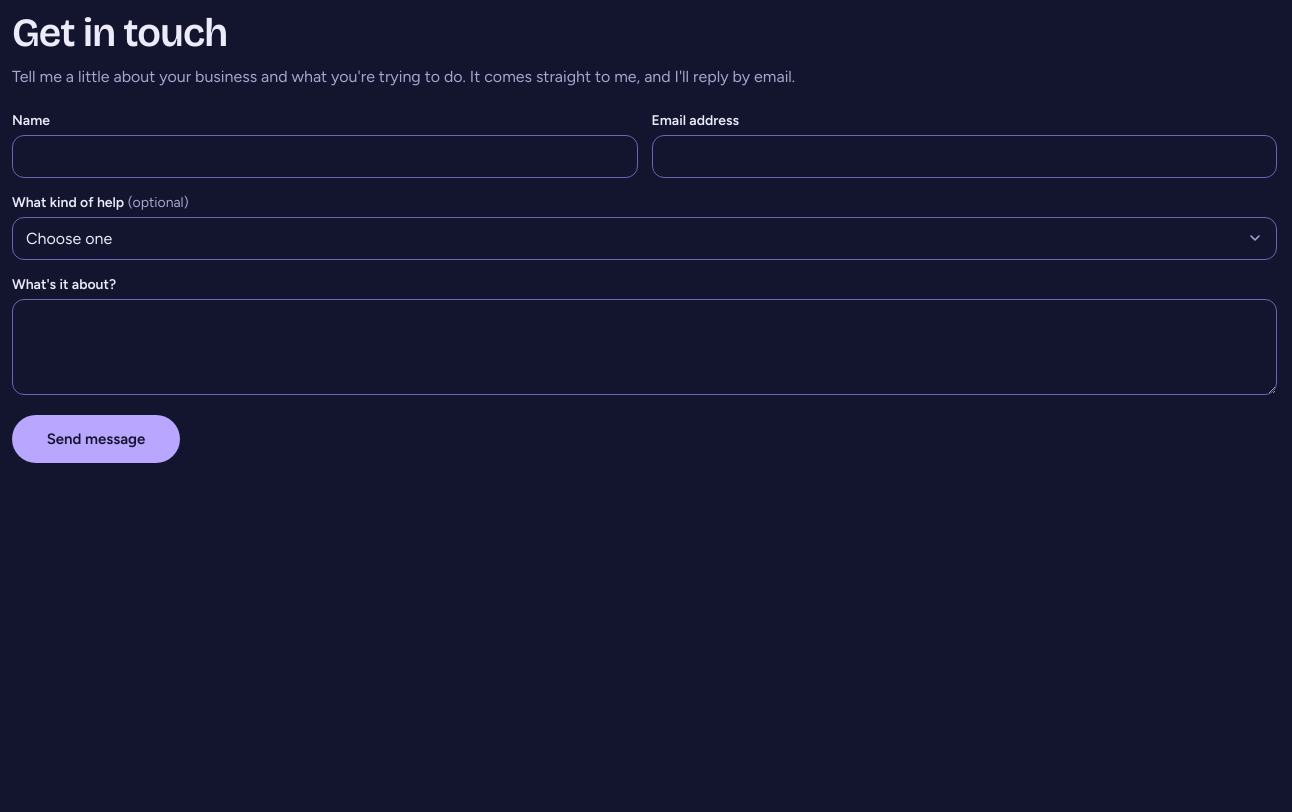
Test: EnquiryForm › says it didn't send when the API answers with an error, offers LinkedIn, and retries
The image size is (1292, 812).
Type "Ada Lovelace" into the field labelled "Name" at (325, 156), box [12, 135, 638, 178]
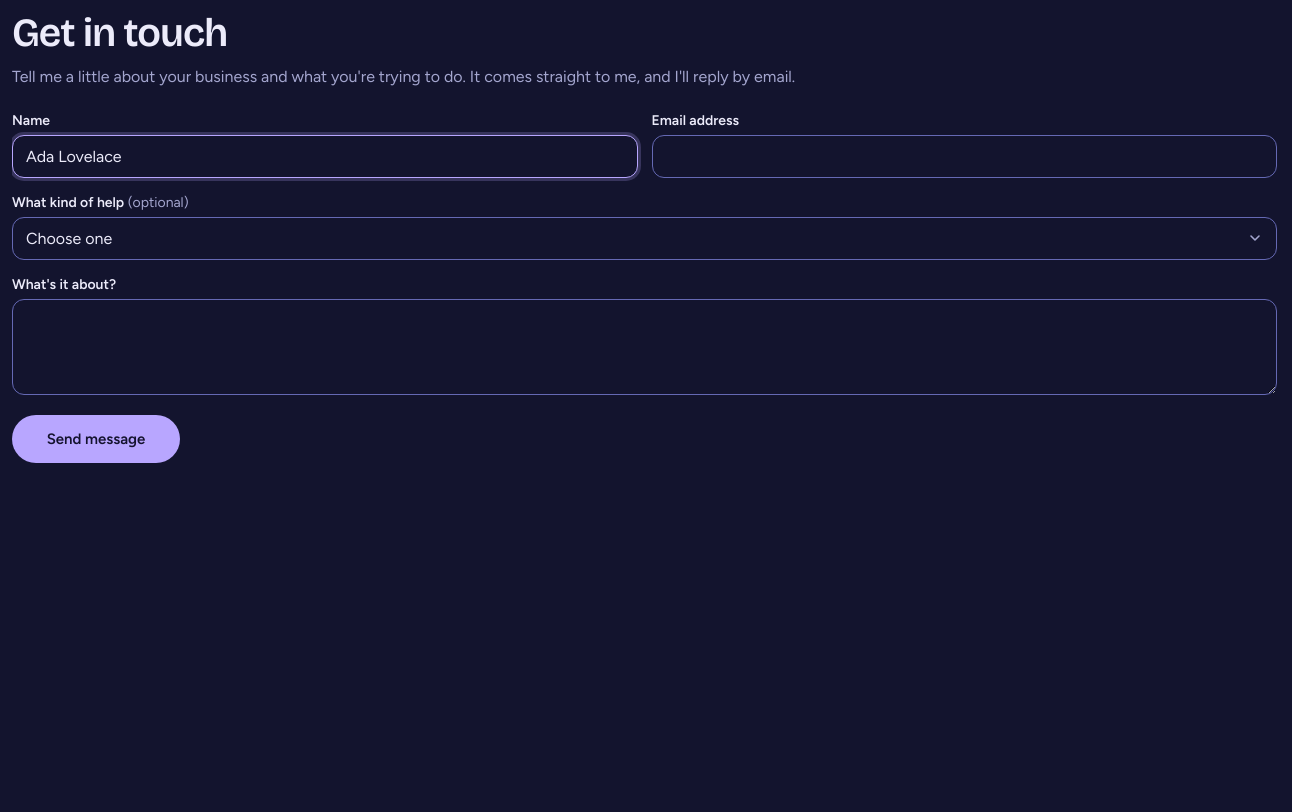
Type "ada@example.com" into the field labelled "Email address" at (964, 156), box [652, 135, 1277, 178]
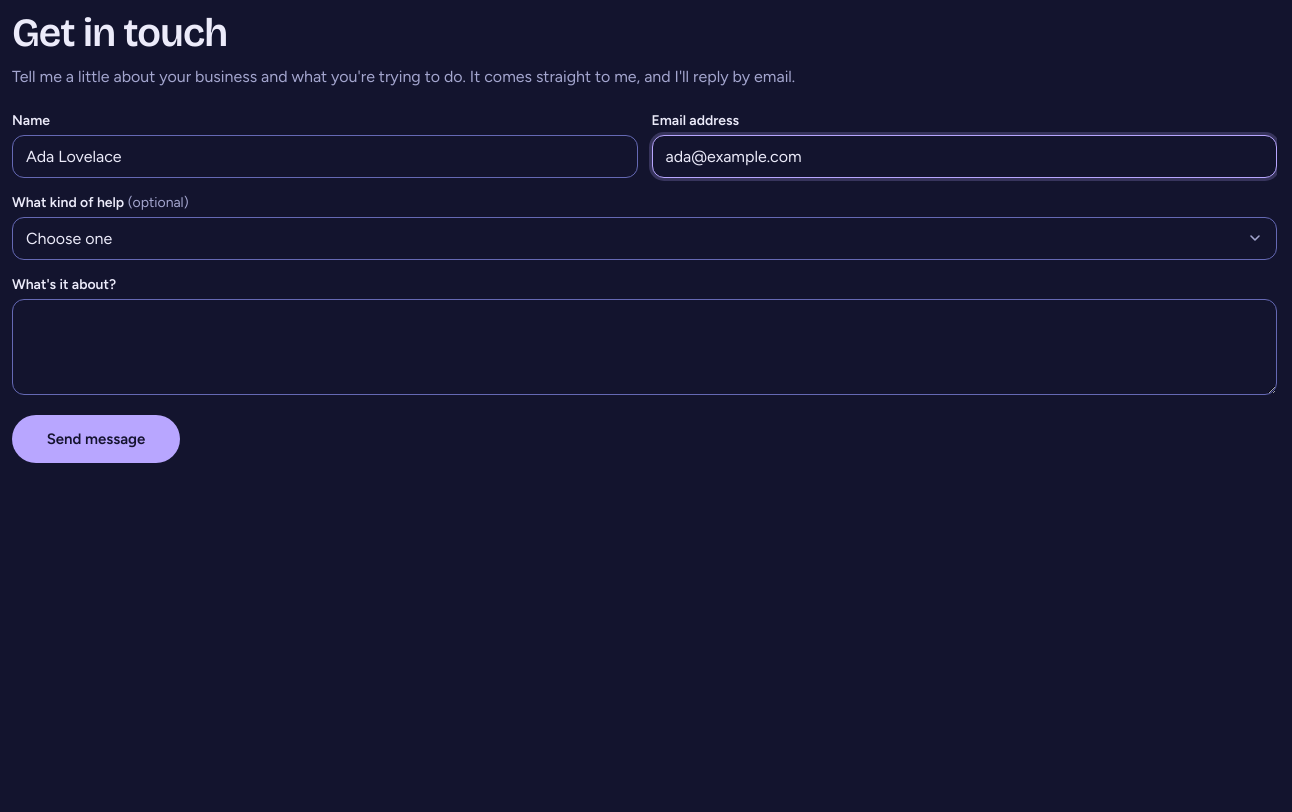
Select "A prototype or proof of concept" in the dropdown labelled "What kind of help (optional)" at (644, 238), box [12, 217, 1277, 260]
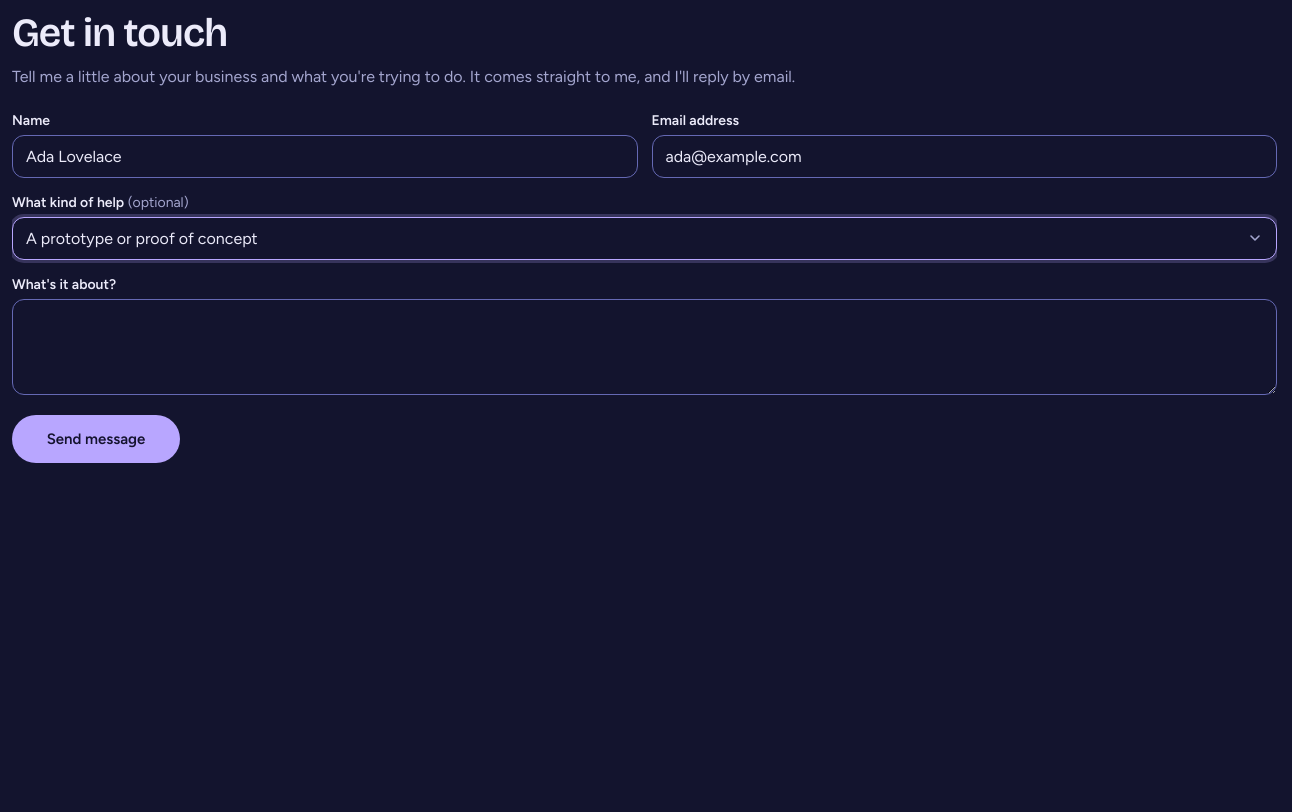
Type "  A booking system for the studio.  " into the text box labelled "What's it about?" at (644, 347), box [12, 299, 1277, 395]
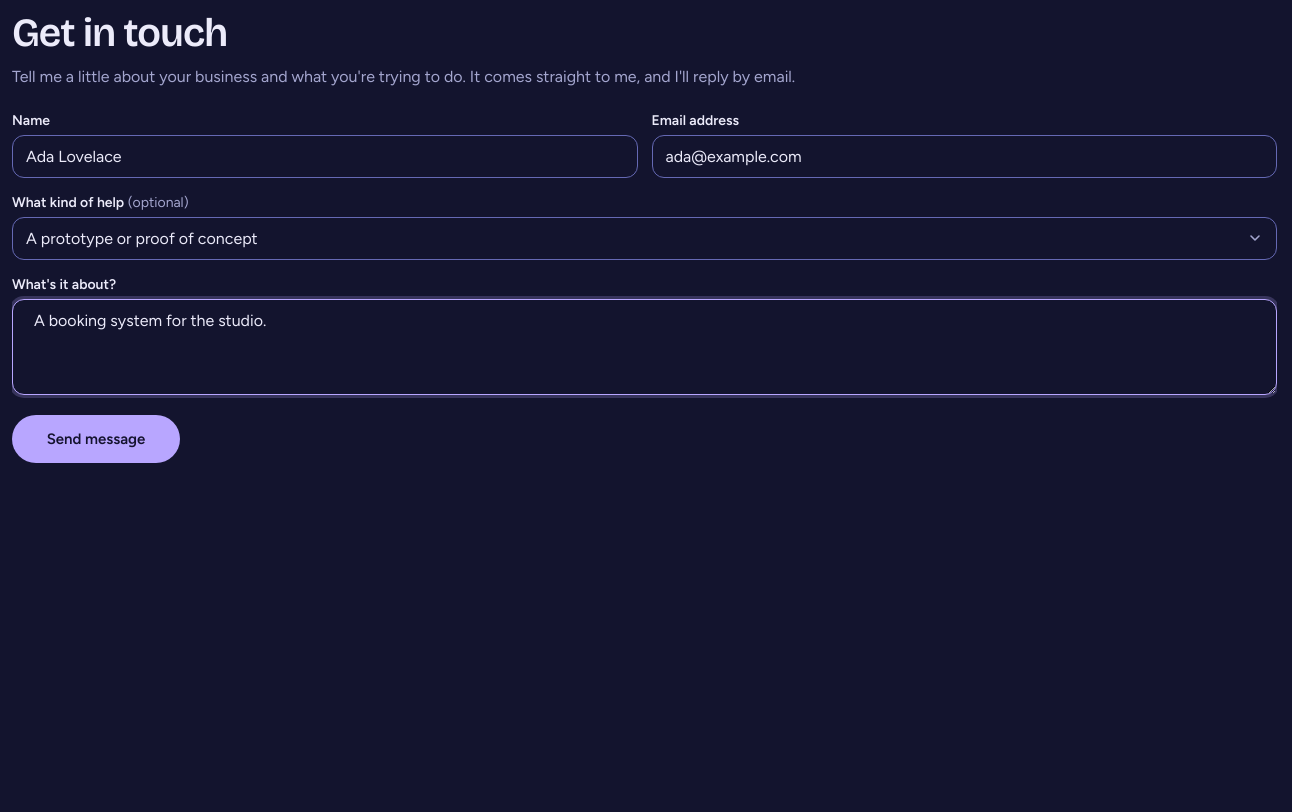
Click the button "Send message" at (96, 439), box [12, 415, 180, 463]
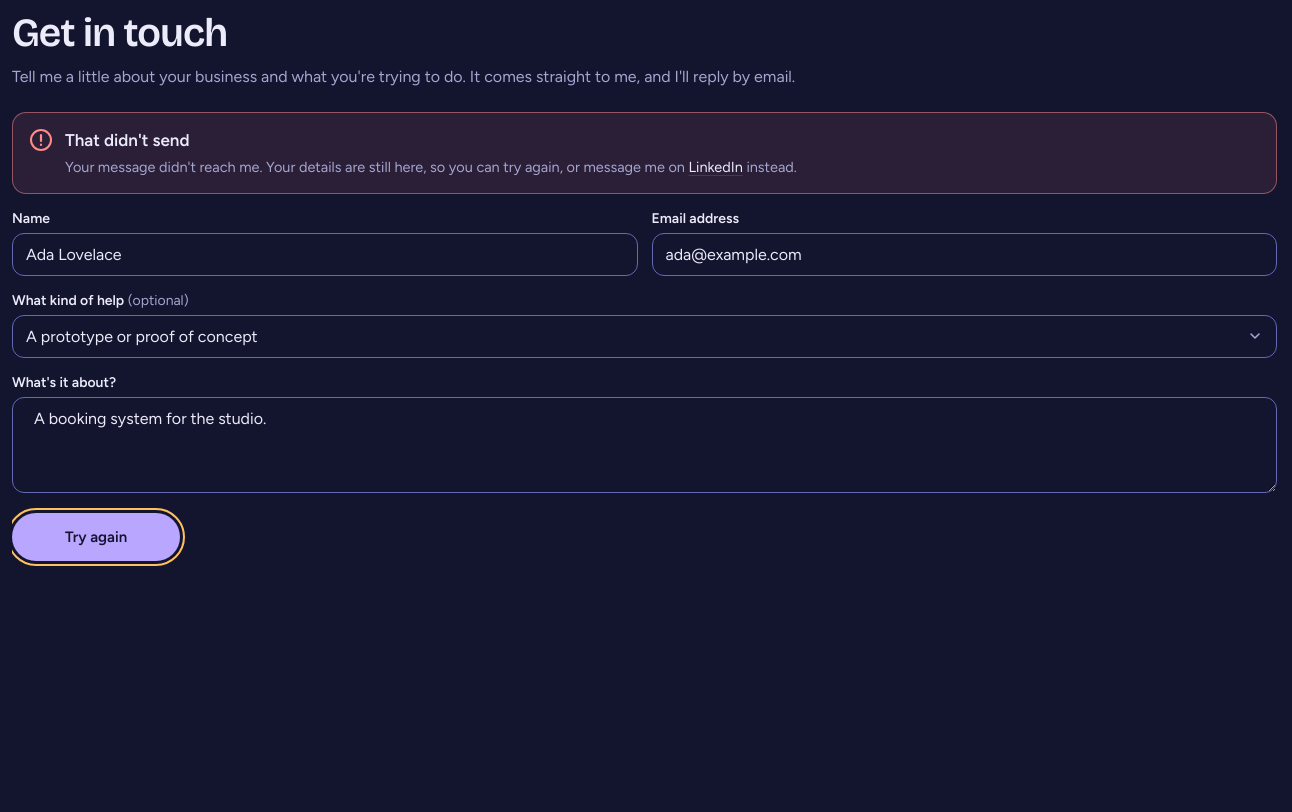
Expected: the heading "Message sent" is not shown
Expected: the message shows "That didn't send", [65, 130, 190, 150]
Expected: the message shows "Your message didn't reach me", [65, 158, 685, 176]
Click the button "Try again" at (96, 537), box [12, 513, 180, 562]
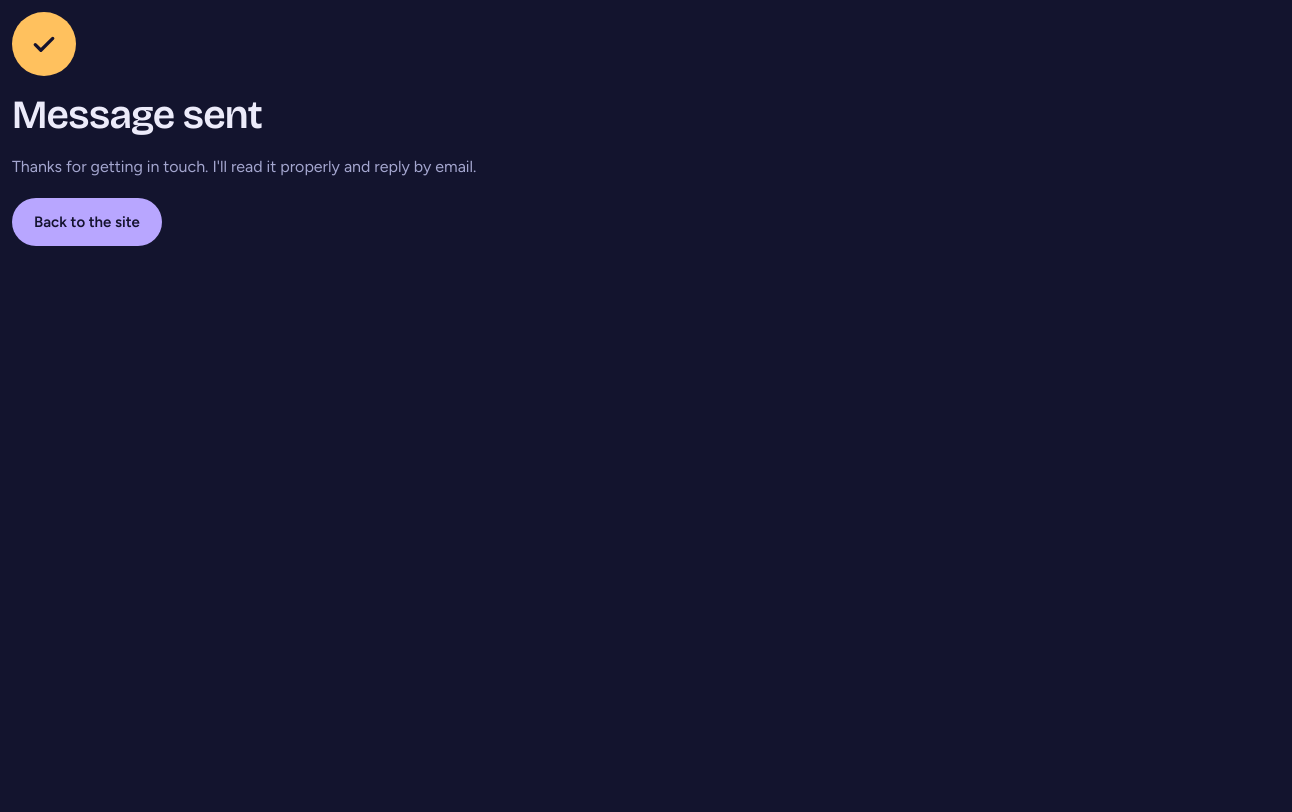
Expected: the heading "Message sent" is shown, [12, 91, 262, 139]
